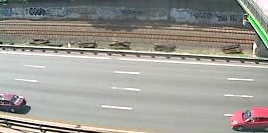car: (227, 106, 268, 132), (1, 92, 31, 113)
